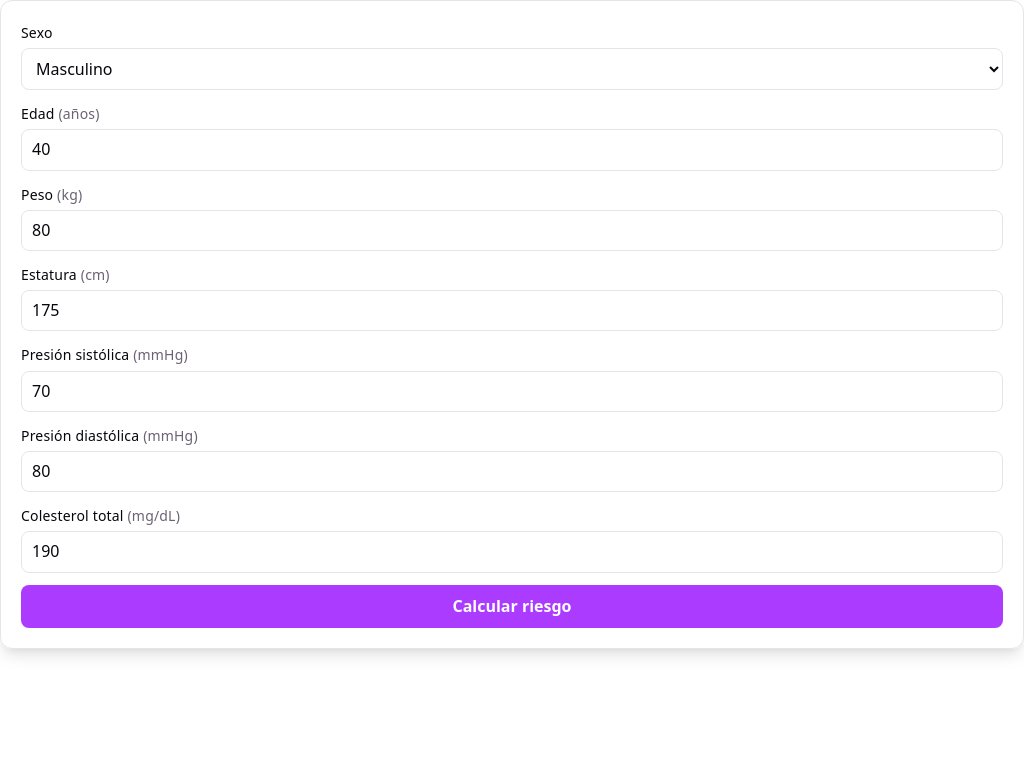
it: PatientForm › bloquea el envío si la sistólica no supera la diastólica
Click the button "Calcular riesgo".
click(512, 606)  # box [21, 584, 1003, 628]
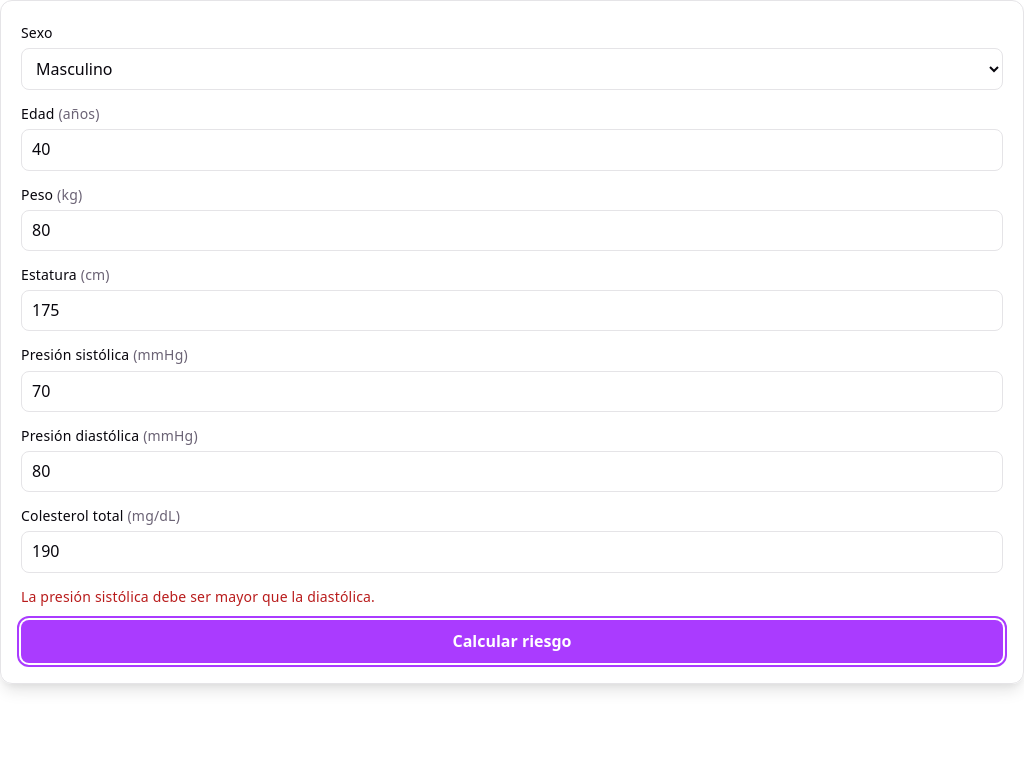
Result: the message shows "sistólica debe ser mayor" at [21, 586, 375, 606]
